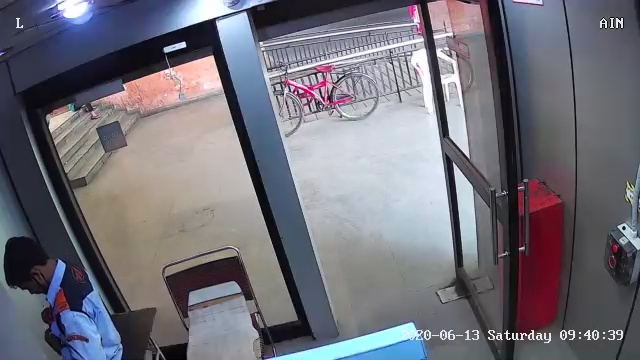open: (387, 4, 563, 360)
